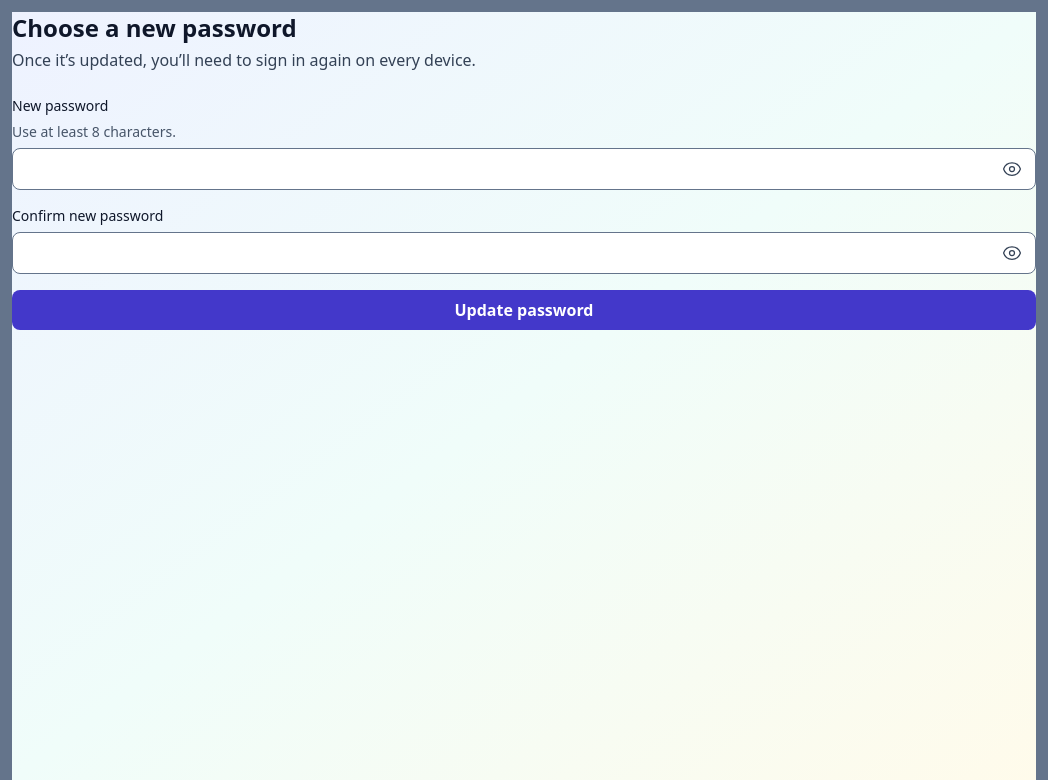
Scenario: ResetPasswordForm › errors › shows authorization_error (Origin check) in the alert and keeps the form
The image size is (1048, 780).
In the password field labelled "New password": (524,169) [12,148,1036,190], type "correct horse"
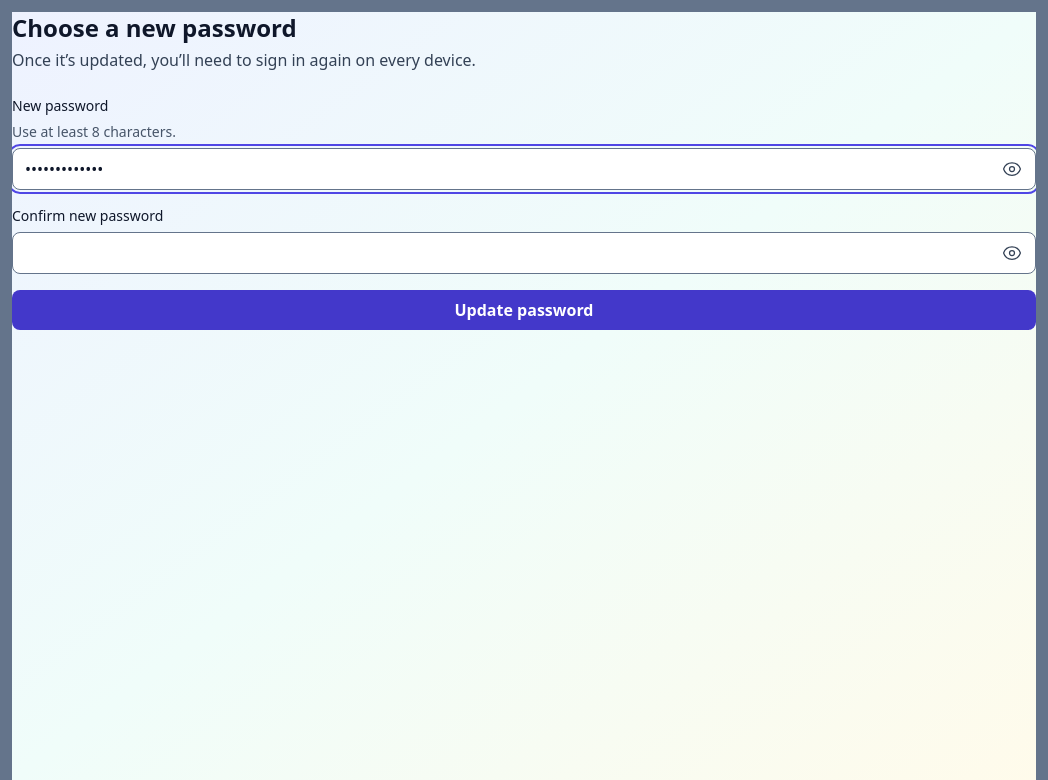
In the password field labelled "Confirm new password": (524,253) [12,232,1036,274], type "correct horse"
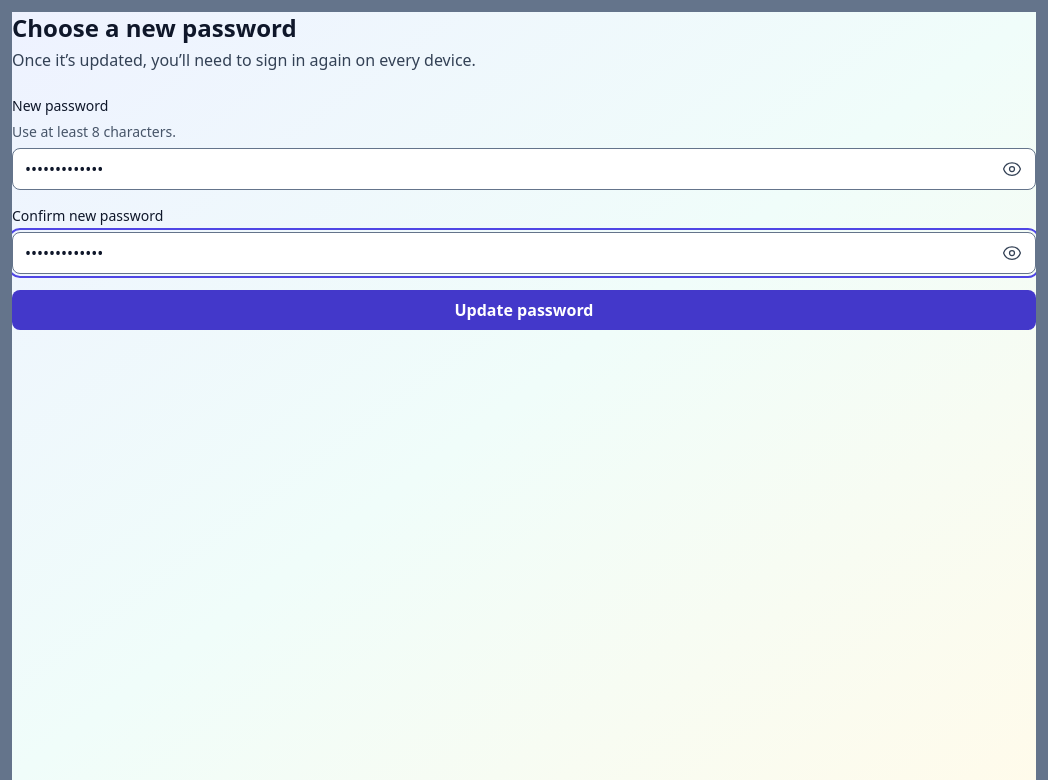
Click the button "Update password": (524,310) [12,290,1036,330]
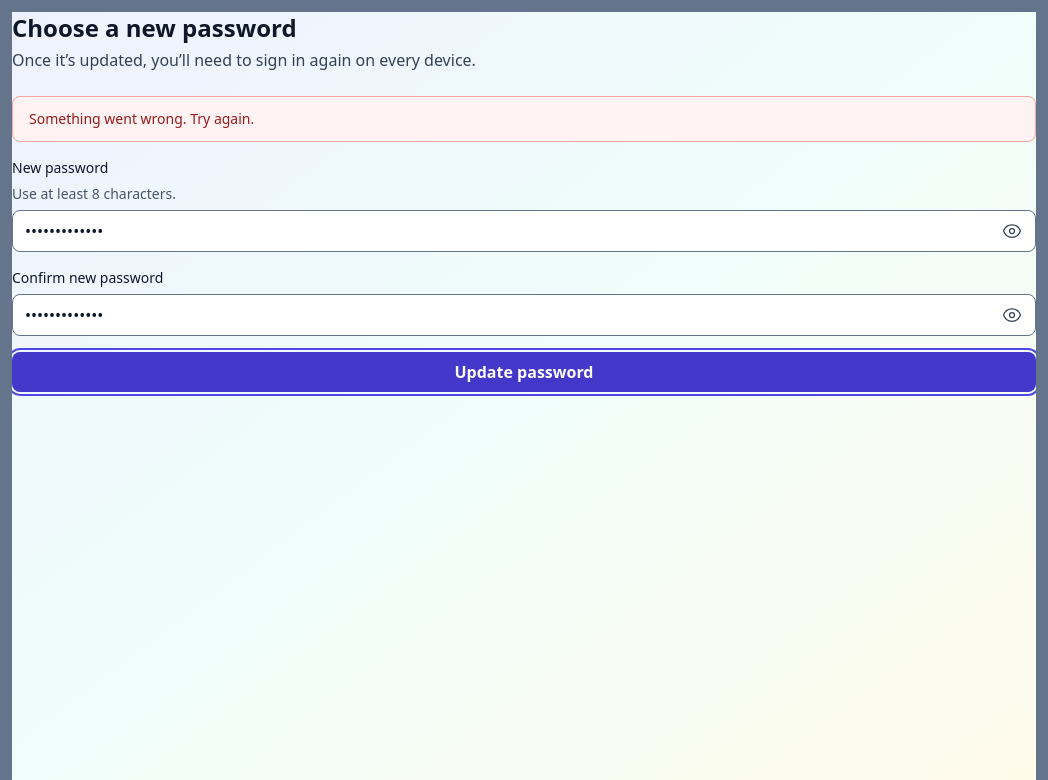
expect the form named "Choose a new password" is shown: met, box [12,96,1036,392]
expect the message reads "Something went wrong. Try again.": met, box [29,109,254,128]
